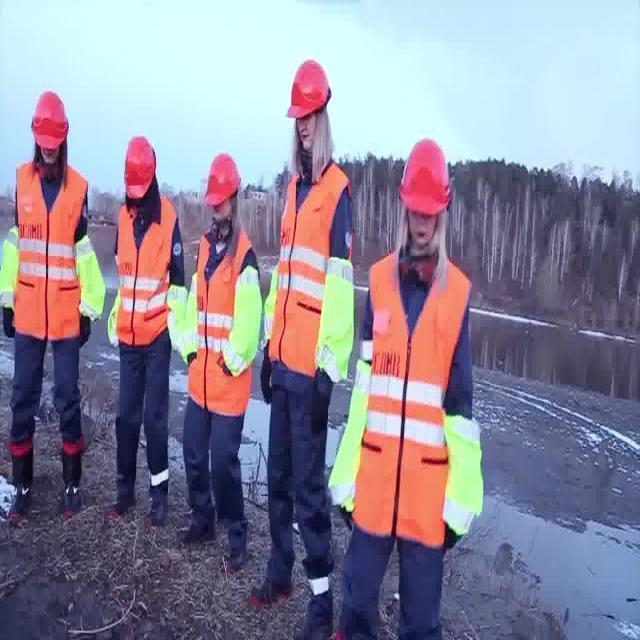boots: (7, 435, 41, 525), (103, 466, 144, 522), (61, 441, 87, 521), (293, 591, 333, 640), (179, 500, 213, 543), (250, 578, 293, 610), (227, 519, 249, 569), (146, 481, 169, 526)
gloves: (441, 414, 483, 537), (311, 368, 333, 434), (259, 343, 273, 404), (107, 292, 120, 348), (1, 306, 15, 338), (77, 314, 91, 346)
hard-hat: (398, 137, 453, 215), (286, 59, 330, 119), (31, 90, 69, 150), (203, 152, 241, 207), (124, 136, 156, 200)
person: (326, 137, 485, 639), (250, 58, 354, 638), (1, 90, 106, 526), (166, 152, 262, 571), (103, 135, 187, 527)
vest: (325, 247, 479, 549), (261, 159, 354, 377), (1, 161, 106, 342), (251, 157, 333, 359), (197, 227, 254, 417), (105, 204, 175, 340)
